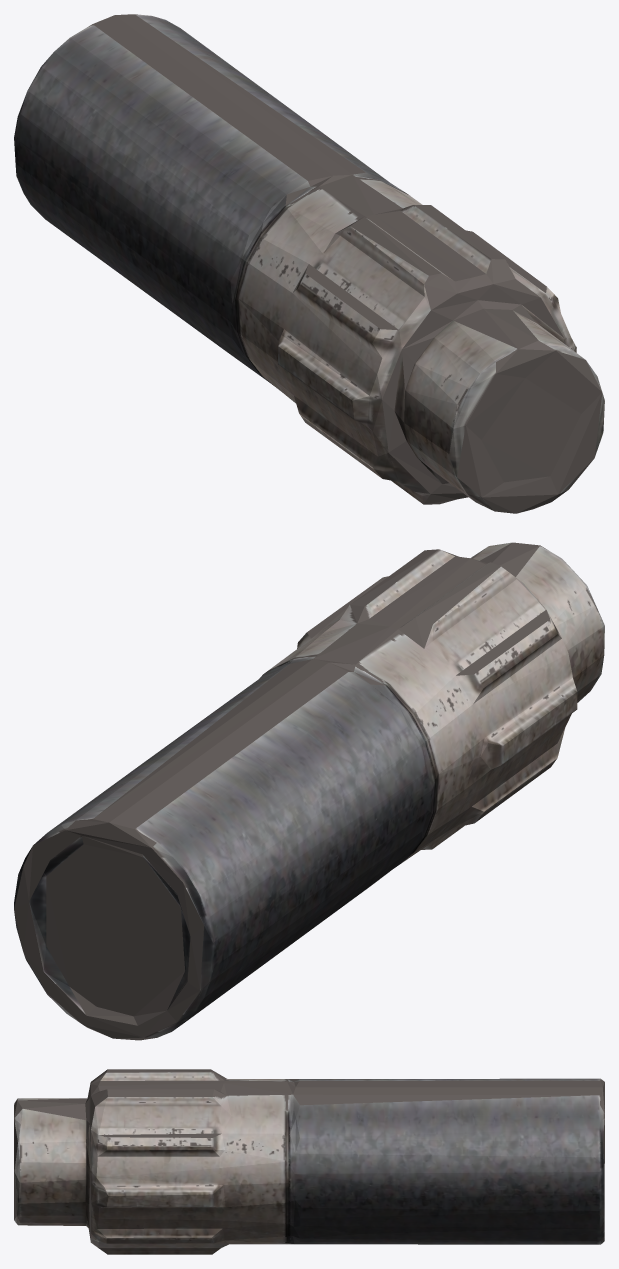
Rendered from flashhider.glb.
The picture shows the model from 3 angles, top to bottom: view 1: azimuth 30°, elevation 25°; view 2: azimuth 150°, elevation 25°; view 3: azimuth 270°, elevation 25°; orthographic projection. The views are drawn at different scales.
Visible parts, largest first — view 1: Mesh_0; view 2: Mesh_0; view 3: Mesh_0.
Part boxes in pixels (x1,y1,x2,y2): Mesh_0: (14,14,604,513); Mesh_0: (14,542,604,1040); Mesh_0: (14,1069,604,1254).
Size of the model in its own units: 0.0246 by 0.0245 by 0.08.
1 material, 1 textured.
